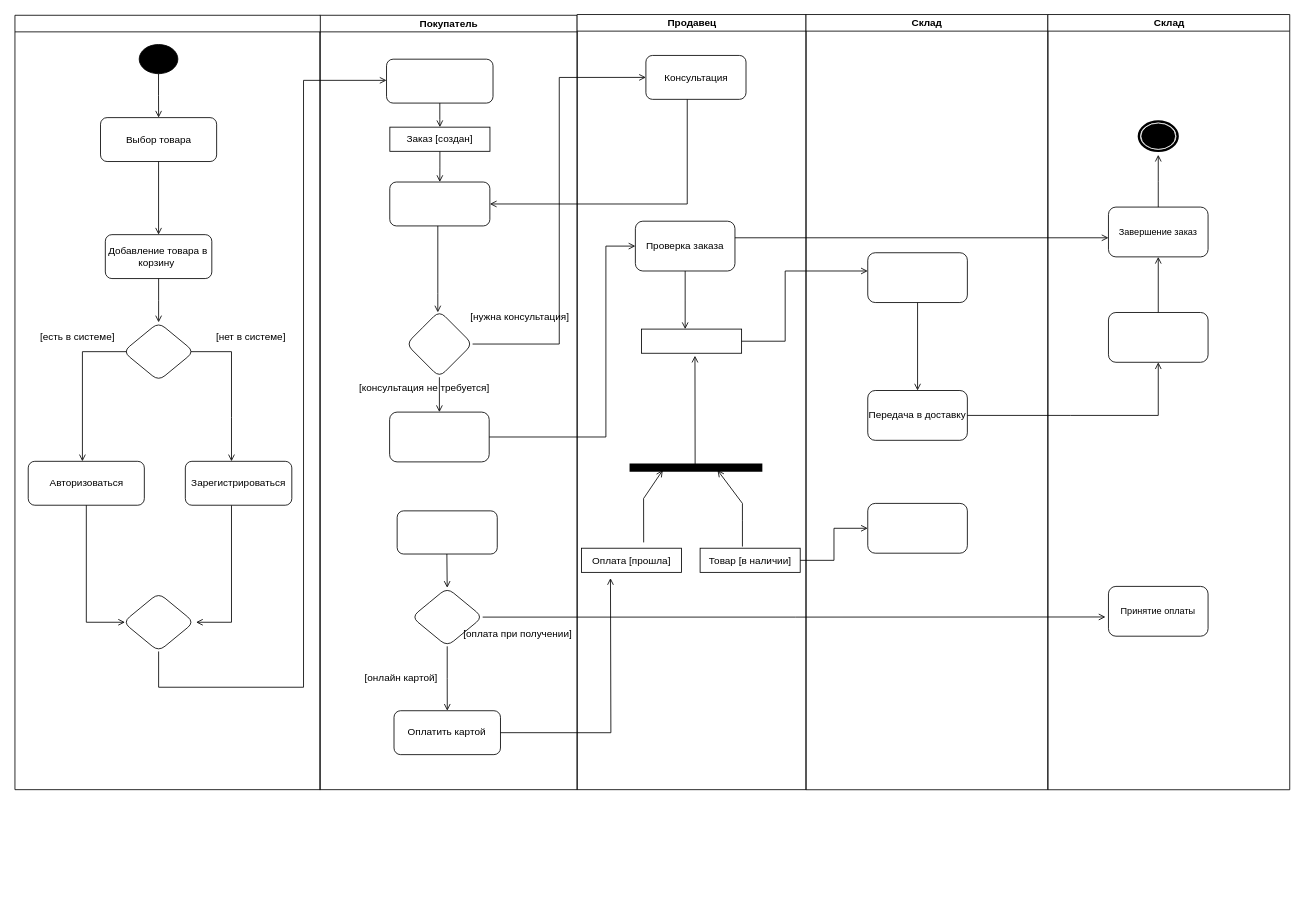
This 1304x908 diagram has some shape labels left out. Each missing label, with the box of its shape:
Ведение базы товаров: (867, 503, 967, 553)
Выбрать способ оплаты: (396, 510, 497, 554)
Доставка заказа: (1108, 312, 1208, 362)
Заполнить формы заказа: (389, 181, 490, 226)
Оформить заказ: (389, 411, 489, 462)
Пользователь: (14, 14, 320, 790)
проверка [успешная]: (641, 328, 742, 353)
Сборка заказа: (867, 252, 967, 303)
Создать заказ: (386, 58, 493, 103)
